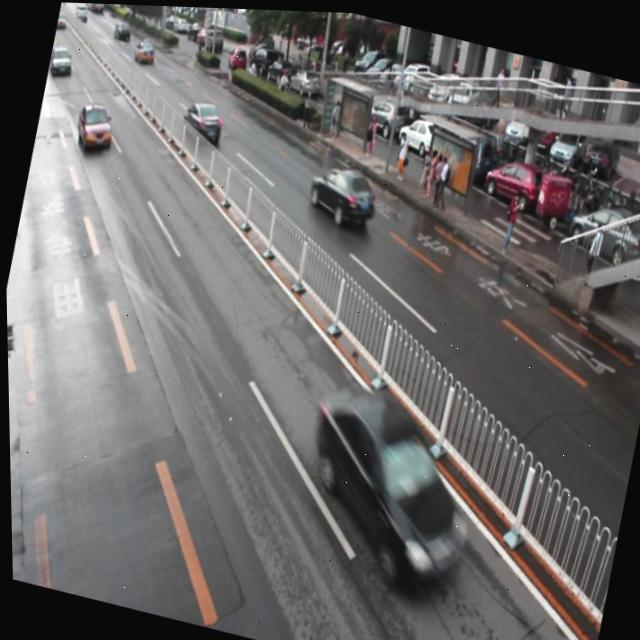car: (285, 373, 488, 591), (303, 156, 381, 229), (72, 99, 118, 155), (177, 94, 224, 147)
